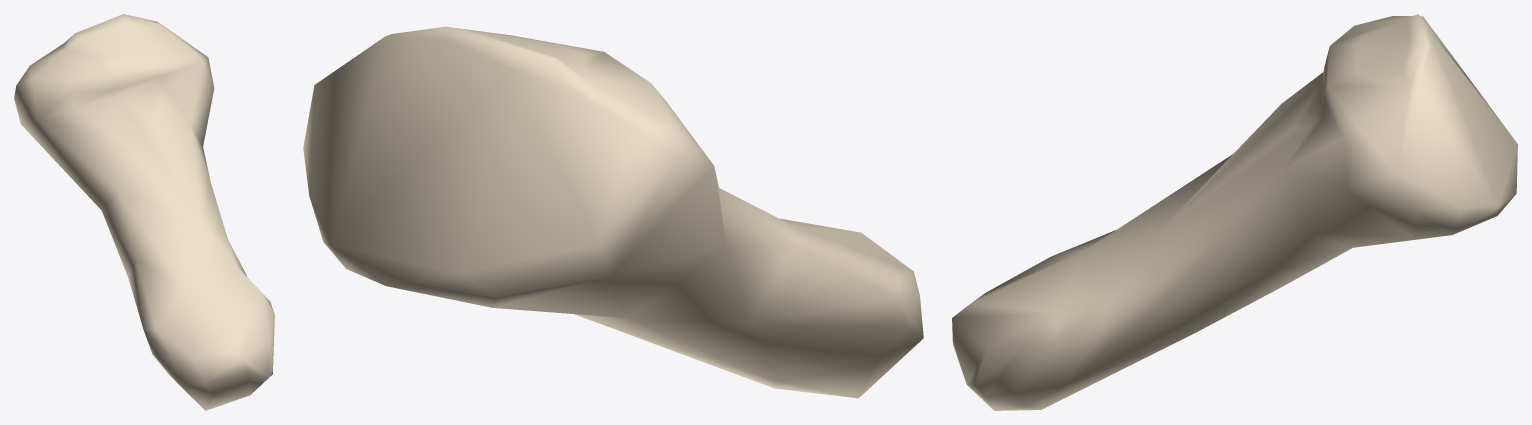
The model's file is distal-phalanx-of-third-finger-of-hand-r.glb.
The picture shows the model from 3 angles, left to right: view 1: azimuth 30°, elevation 25°; view 2: azimuth 150°, elevation 25°; view 3: azimuth 270°, elevation 25°; orthographic projection. The views are drawn at different scales.
Visible parts, largest first — view 1: Distal phalanx of third finger of hand.r; view 2: Distal phalanx of third finger of hand.r; view 3: Distal phalanx of third finger of hand.r.
Part boxes in pixels (x1,y1,x2,y2): Distal phalanx of third finger of hand.r: (14,14,274,410); Distal phalanx of third finger of hand.r: (303,26,923,398); Distal phalanx of third finger of hand.r: (952,14,1517,410).
Bounding box in the file's own units: 0.00986 × 0.0139 × 0.0179.
